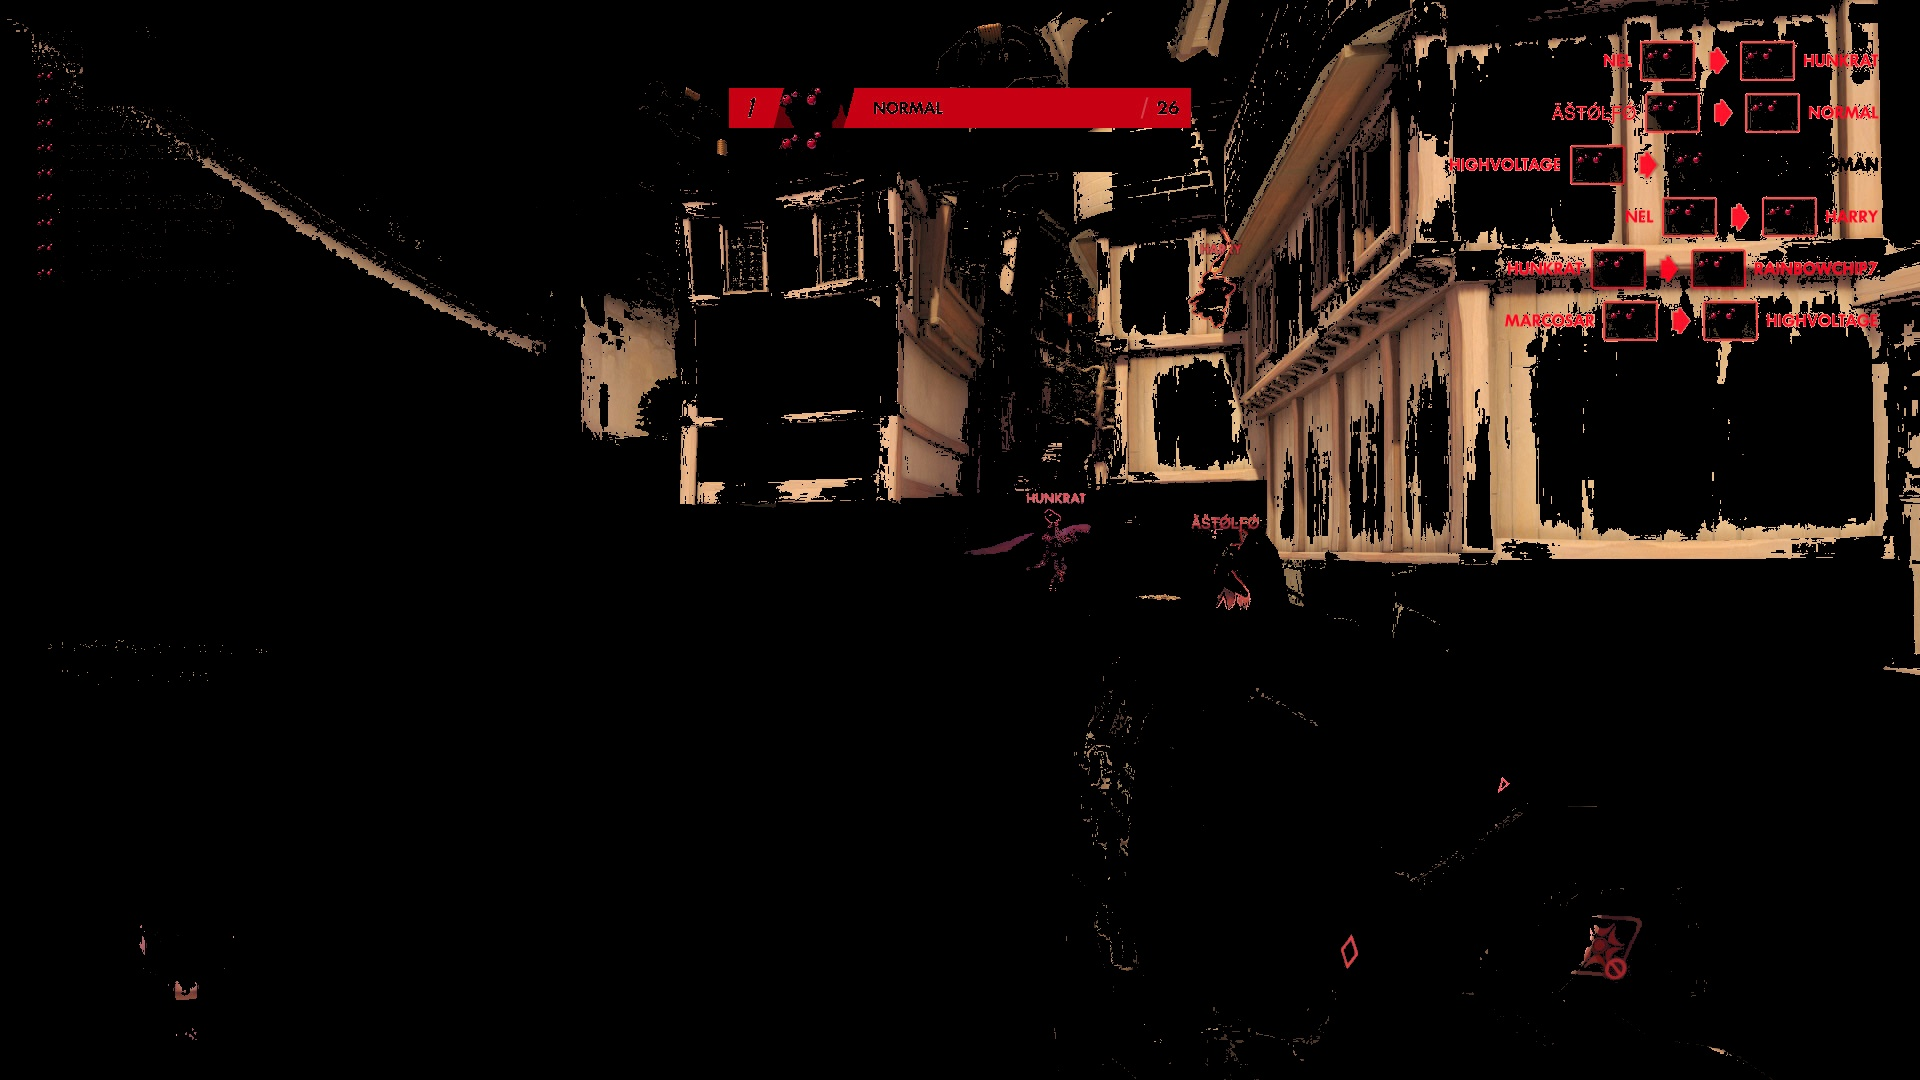widowmaker: (1031, 506, 1095, 589), (1185, 256, 1241, 331)
